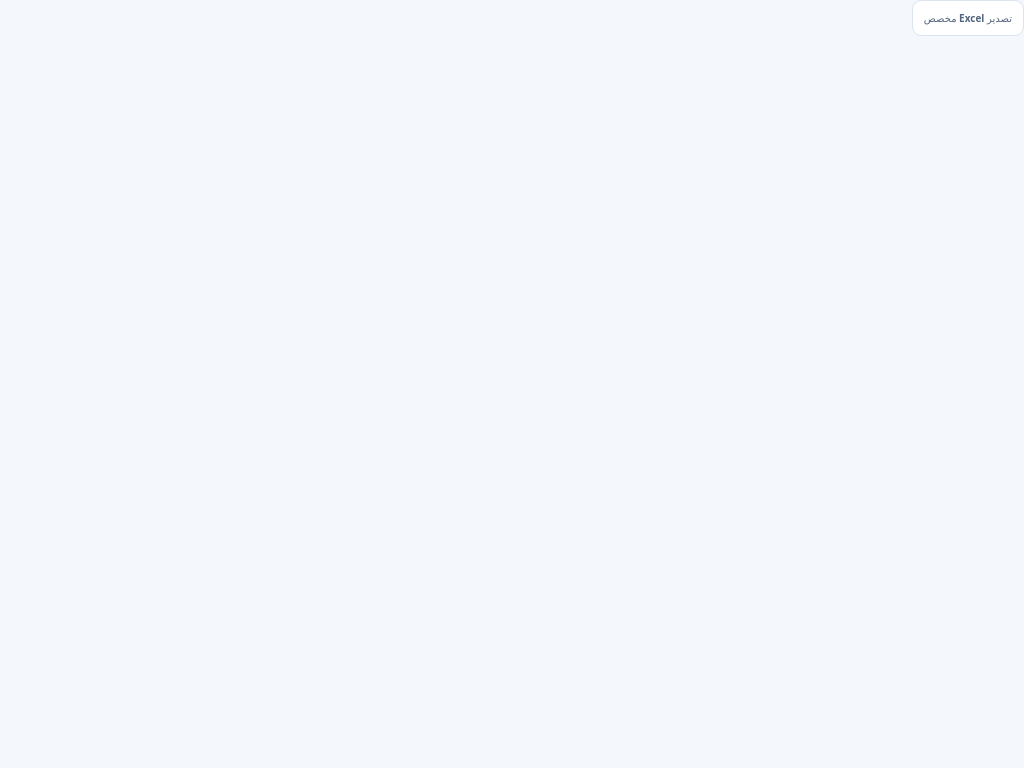
it: CustomExcelExportButton › loads fields, reorders and saves a template, previews before download
Later steps or results of the test are not shown.
What coordinates should you click on to do the following:
click the button "تصدير Excel مخصص"
I would click on:
 (968, 18)
Its box is [912,0,1023,36].
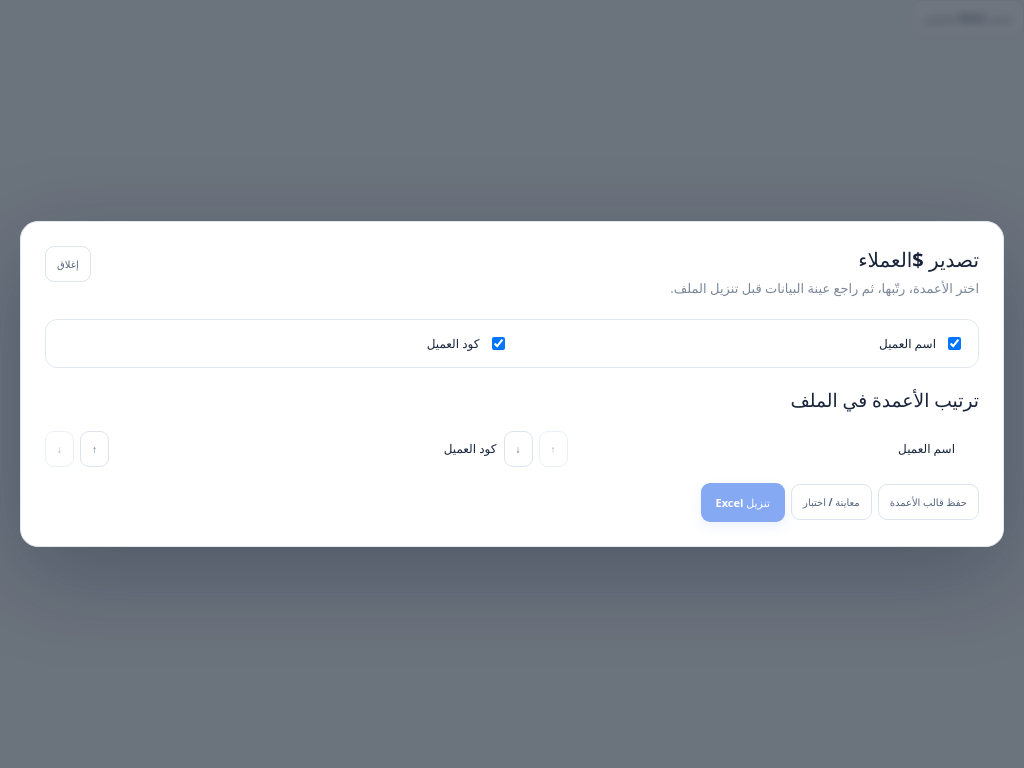
Check: the checkbox labelled "اسم العميل" is checked, box [948,337,961,350]
Check: the checkbox labelled "كود العميل" is checked, box [492,337,504,350]
What coordinates should you click on to do the following:
click the button named "تحريك لأسفل"
I would click on:
 (518, 449)
Its box is [504,431,532,467].
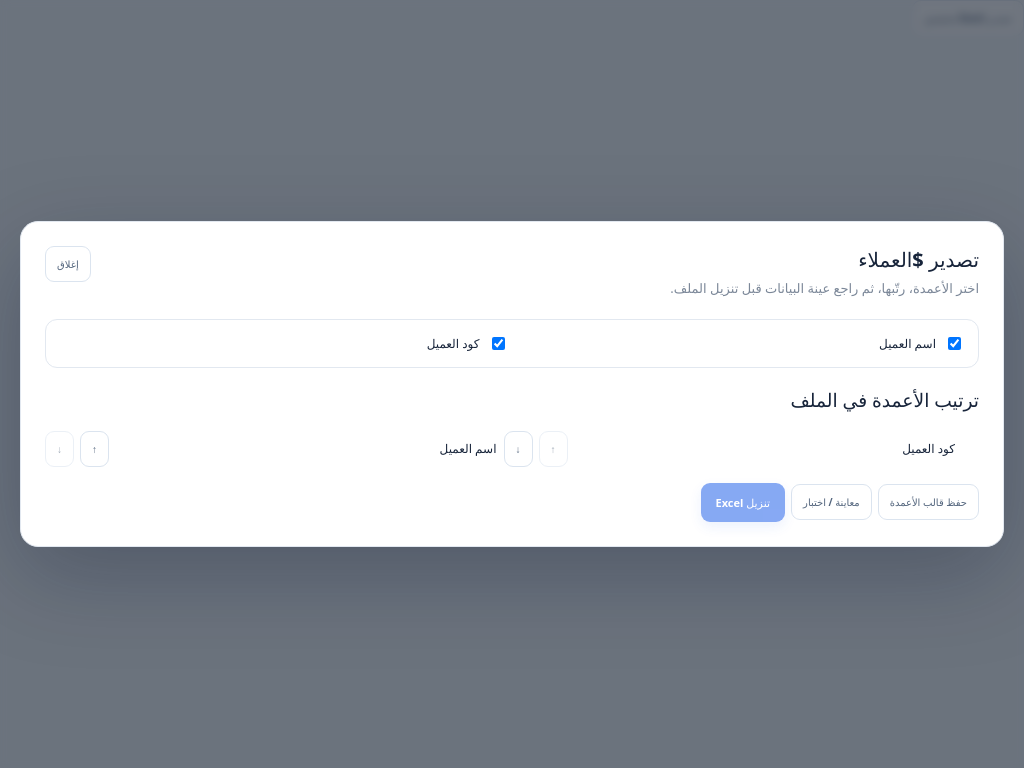
What coordinates should you click on to do the following:
click the button "حفظ قالب الأعمدة"
I would click on:
 (928, 502)
Its box is [878,484,979,520].
Check: the button "تنزيل Excel" is disabled, box [700,483,785,522]
What coordinates should you click on to do the following:
click the button "معاينة / اختبار"
I would click on:
 (831, 502)
Its box is [791,484,872,520].
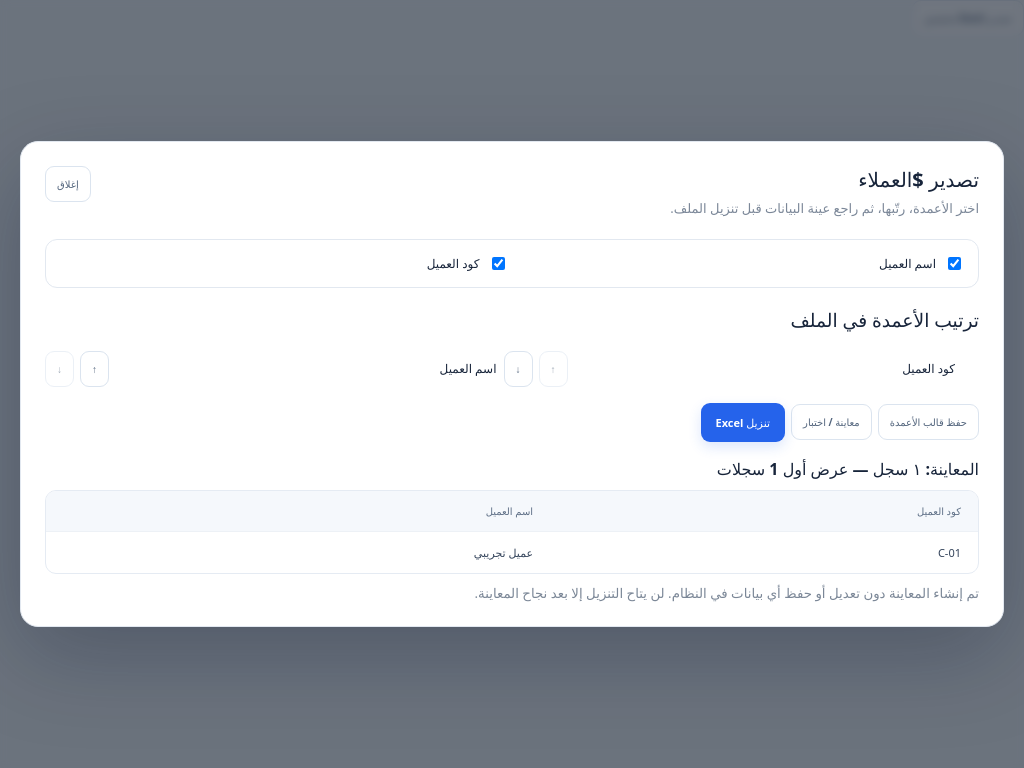
Check: the text "المعاينة: ١ سجل — عرض أول 1 سجلات" is shown, box [717,458,979,480]
Check: the text "عميل تجريبي" is shown, box [46,531,547,573]
Check: the button "تنزيل Excel" is enabled, box [700,403,785,442]
